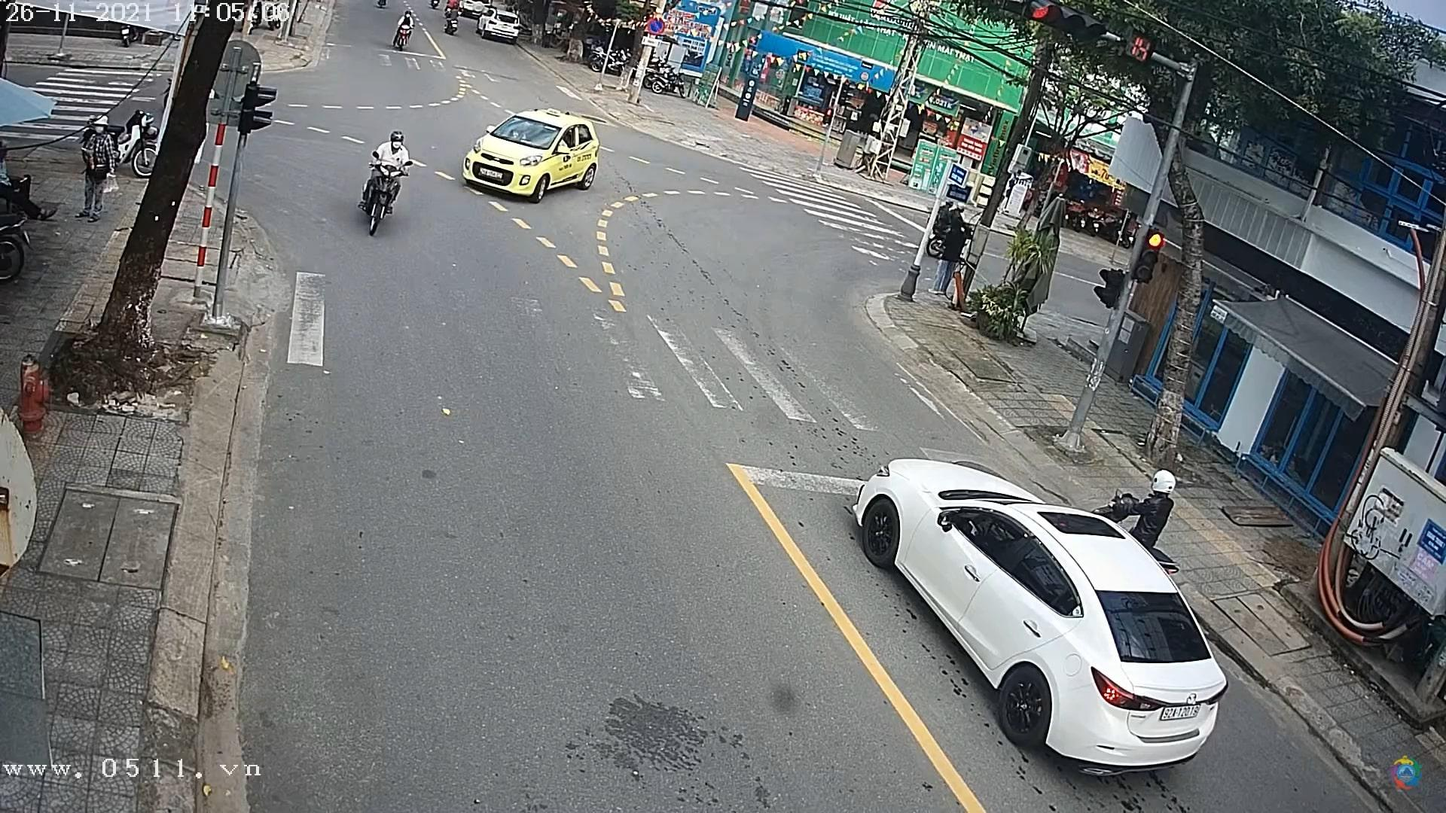car: (850, 460, 1233, 774), (461, 111, 600, 202)
motorbike: (360, 158, 403, 241), (394, 21, 412, 51)
